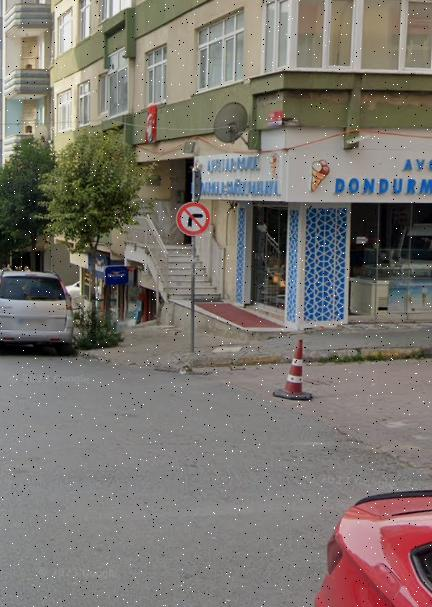rightturnsareforbidden: (175, 200, 213, 239)
